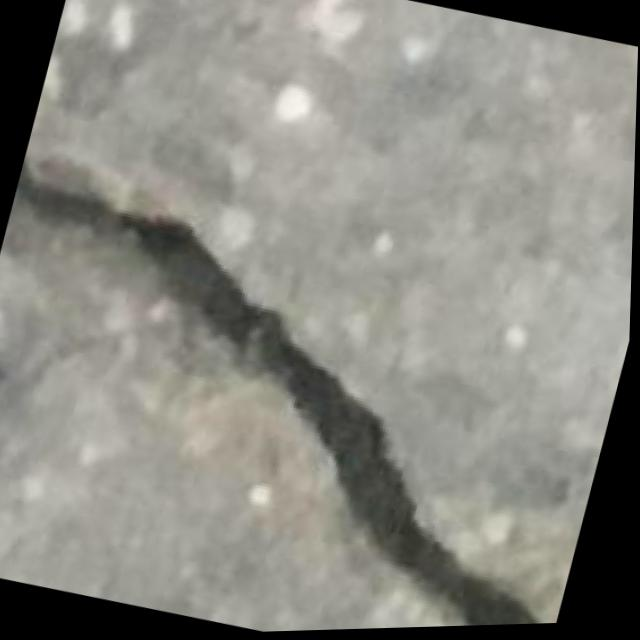Crack: (0, 154, 636, 640)
